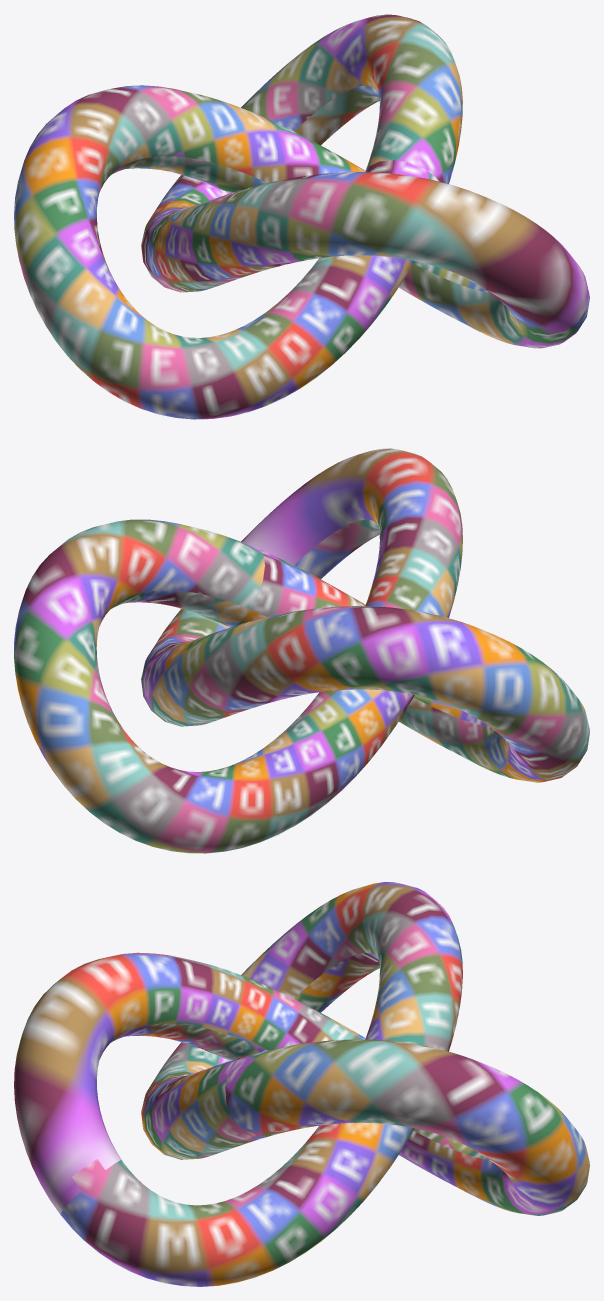
Rendered from knot3.obj.
3 views of the same model, one above another, from view 1: azimuth 30°, elevation 25°; view 2: azimuth 150°, elevation 25°; view 3: azimuth 270°, elevation 25° (orthographic).
Parts seen in each view (by area): view 1: knot1; view 2: knot1; view 3: knot1.
Part boxes in pixels (bbox=[...]): knot1: bbox=[14, 14, 589, 419]; knot1: bbox=[14, 448, 589, 853]; knot1: bbox=[14, 882, 589, 1286].
Size of the model in its own units: 2.98 by 1.45 by 3.19.
Materials: 1 (1 with a texture image).
